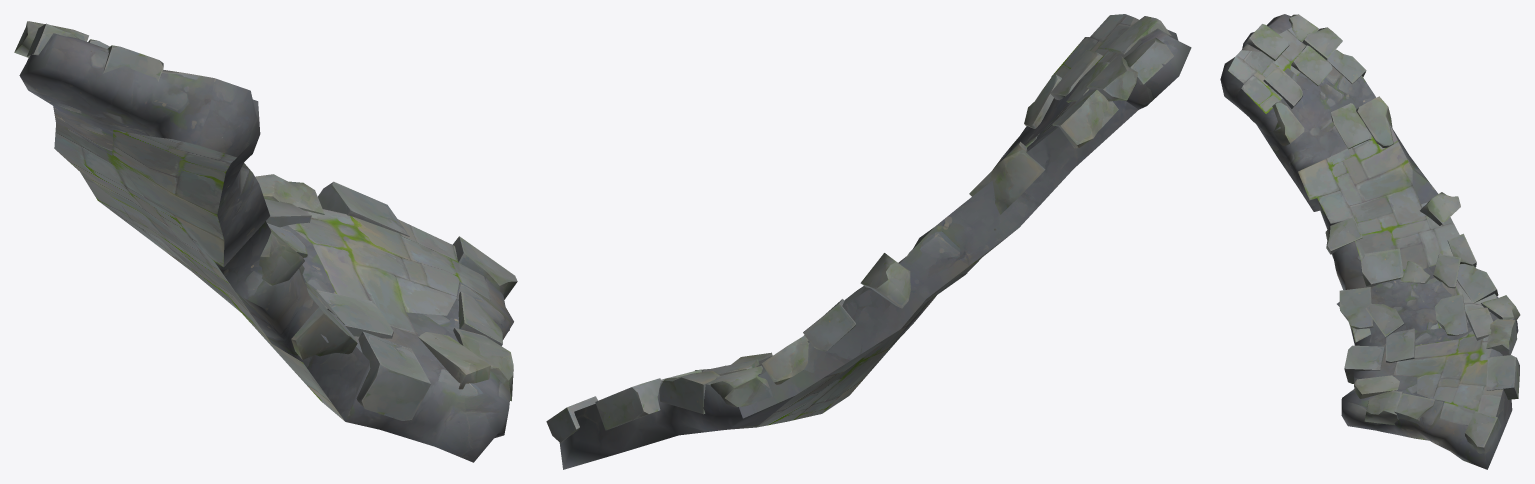
Rendered from Area_MdBuild_SdFloor03_Group.fbx.
3 views of the same model, side by side, from view 1: azimuth 30°, elevation 25°; view 2: azimuth 150°, elevation 25°; view 3: azimuth 270°, elevation 25° (orthographic). The views are drawn at different scales.
Parts seen in each view (by area): view 1: Area_MdBuild_SdFloor03_Lod0; view 2: Area_MdBuild_SdFloor03_Lod0; view 3: Area_MdBuild_SdFloor03_Lod0.
Boxes of the visible parts, x1,y1,x2,y2 form: Area_MdBuild_SdFloor03_Lod0: (14, 21, 517, 462); Area_MdBuild_SdFloor03_Lod0: (546, 14, 1191, 469); Area_MdBuild_SdFloor03_Lod0: (1220, 14, 1520, 469).
Bounding box in the file's own units: 17.59 × 14.86 × 13.36.
3 materials, 3 textured.
